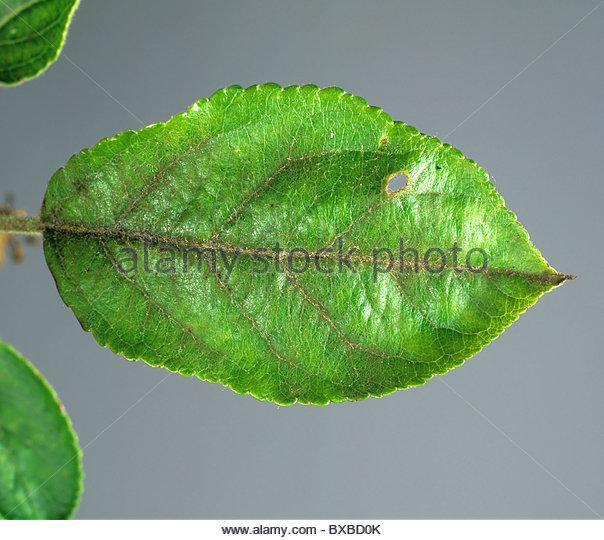Apple Scab Leaf: (41, 69, 577, 404)
